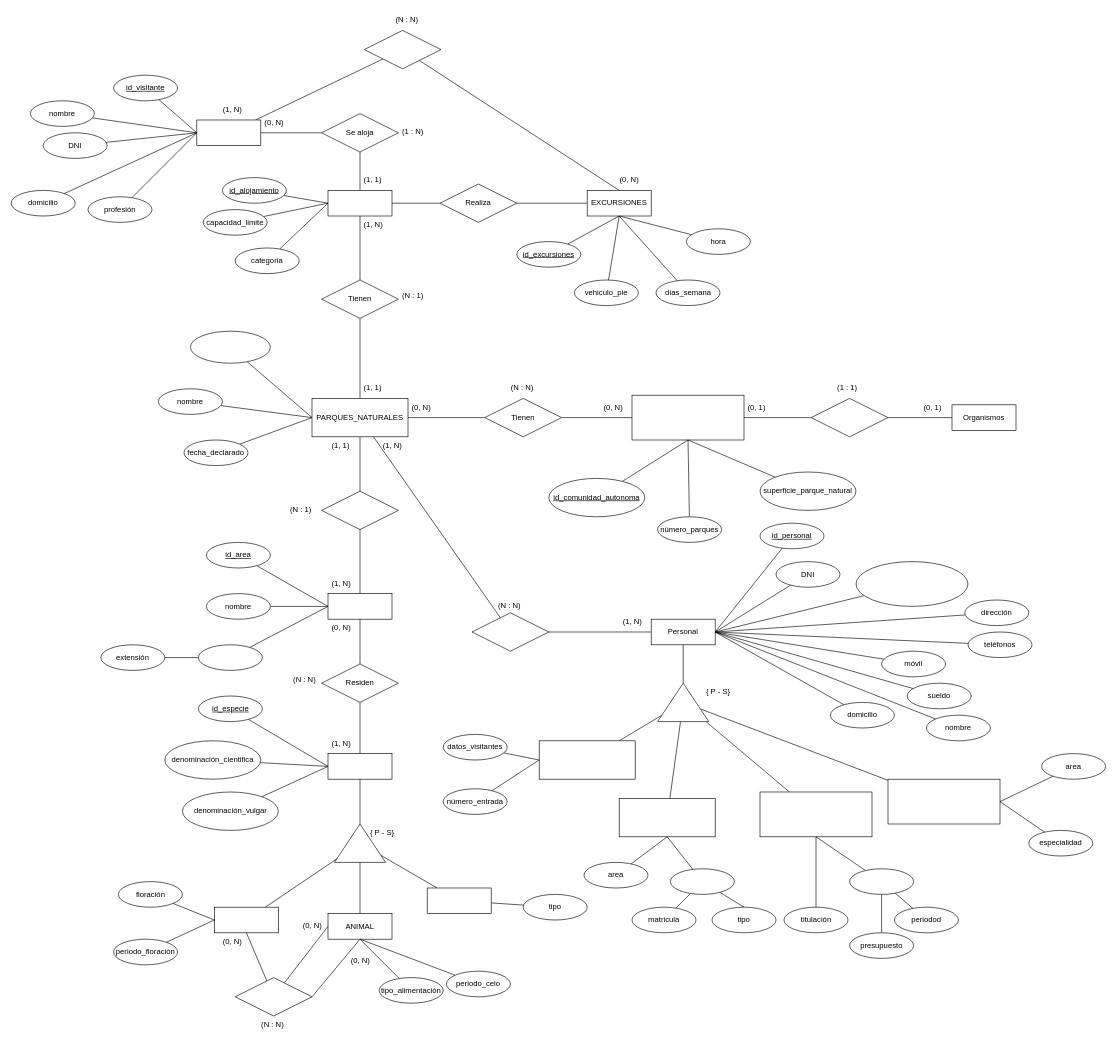
The diagram is 1117 pixels wide and 1048 high, and some of its shapes have lost their labels. The shapes that lost their labels are listed below. From the top down, each one's centre as x and y in pixels, then its label:
At (402,49): "Acude".
At (228,132): "VISITANTE".
At (359,203): "ALOJAMIENTO".
At (230,347): "id_parque_natural".
At (687,417): "COMUNIDAD_AUTONOMA".
At (849,417): "Existe".
At (359,510): "Tiene".
At (911,583): "número_seguridad_social".
At (359,606): "AREAS".
At (510,631): "Trabaja".
At (230,657): "caracteristicas".
At (359,766): "ESPECIES".
At (587,759): "PERSONAL_GESTION".
At (667,817): "PERSONAL_VIGILANCIA".
At (815,814): "PERSONAL_INVESTIGACIÓN".
At (943,801): "PERSONAL_CONSERVACIÓN".
At (459,900): "MINERAL".
At (702,881): "vehiculo".
At (881,881): "proyecto".
At (246,920): "VEGETAL".
At (273,996): "Come".
